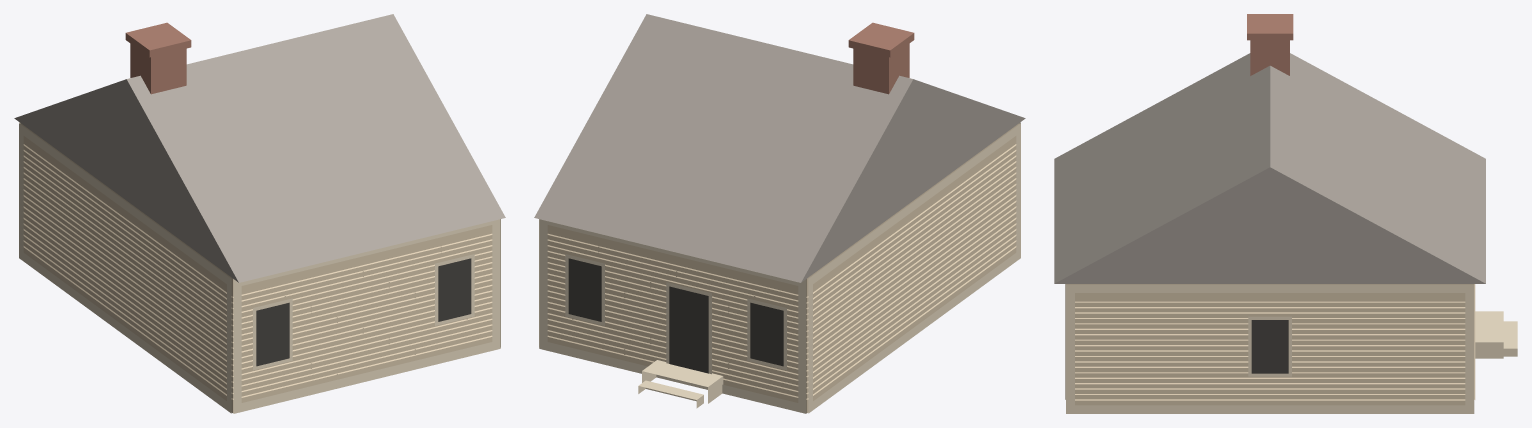
The model's file is recon_1835_blk_south_water_wells_d4_03__inferred_1835.glb.
3 renders of one model, left to right at view 1: azimuth 30°, elevation 25°; view 2: azimuth 150°, elevation 25°; view 3: azimuth 270°, elevation 25°, orthographic. The views are drawn at different scales.
Parts seen in each view (by area): view 1: recon_1835_blk_south_water_wells_d4_03__inferred_1835; view 2: recon_1835_blk_south_water_wells_d4_03__inferred_1835; view 3: recon_1835_blk_south_water_wells_d4_03__inferred_1835.
Part boxes in pixels (<box>): recon_1835_blk_south_water_wells_d4_03__inferred_1835: <box>14,14,505,413</box>; recon_1835_blk_south_water_wells_d4_03__inferred_1835: <box>534,14,1025,413</box>; recon_1835_blk_south_water_wells_d4_03__inferred_1835: <box>1054,14,1517,413</box>.
Size of the model in its own units: 6.34 by 6.53 by 9.82.
